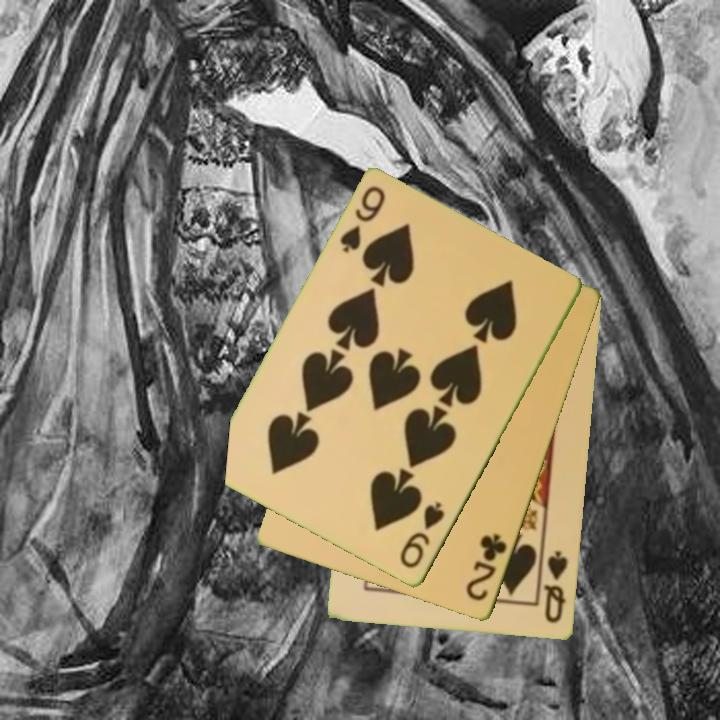2c: (462, 531, 511, 605)
9s: (336, 183, 389, 257), (396, 499, 448, 572)
Qs: (541, 548, 571, 626)
